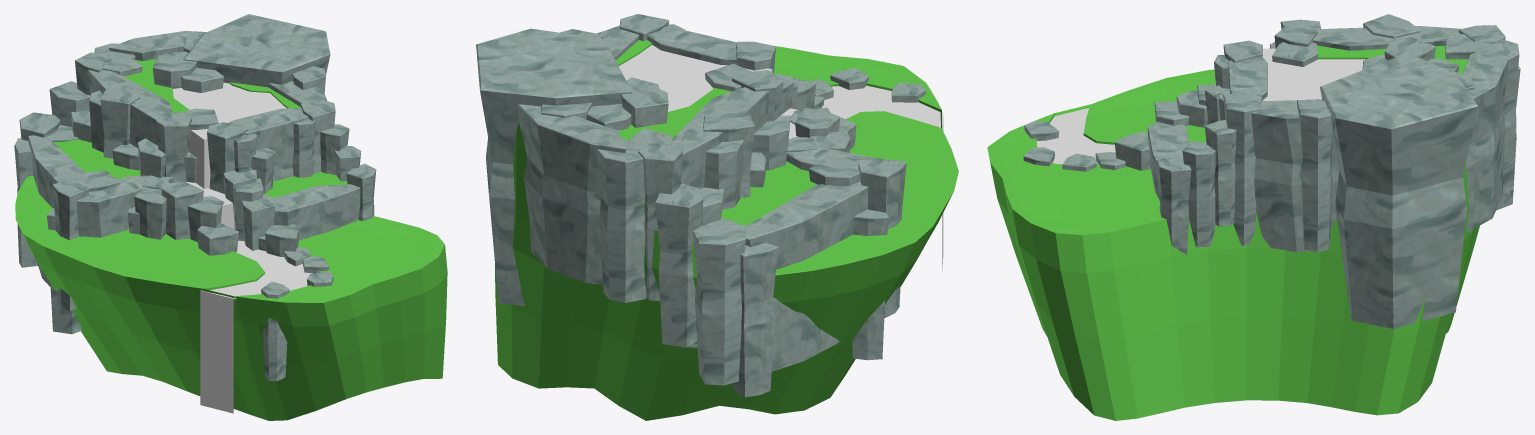
File: Forest2.fbx
3 views of the same model, side by side, from view 1: azimuth 30°, elevation 25°; view 2: azimuth 150°, elevation 25°; view 3: azimuth 270°, elevation 25° (orthographic). The views are drawn at different scales.
Visible parts, largest first — view 1: Cylinder, 0Forest, Plane; view 2: Cylinder, 0Forest, Plane; view 3: Cylinder, 0Forest, Plane.
Part boxes in pixels (left/top/right/bottom): Cylinder: left=14, top=14, right=376, bottom=381; 0Forest: left=15, top=59, right=447, bottom=420; Plane: left=173, top=82, right=312, bottom=413; Cylinder: left=476, top=14, right=925, bottom=397; 0Forest: left=495, top=40, right=958, bottom=420; Plane: left=619, top=45, right=943, bottom=270; Cylinder: left=1023, top=14, right=1520, bottom=328; 0Forest: left=987, top=45, right=1479, bottom=420; Plane: left=1036, top=48, right=1365, bottom=164.
Bounding box in the file's own units: 42.15 × 31.07 × 50.52.
